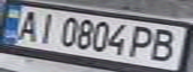0: (54, 15, 81, 48), (90, 19, 112, 53)
4: (106, 20, 133, 56)
8: (75, 17, 96, 51)
A: (9, 7, 45, 43)
B: (145, 26, 187, 63)
I: (30, 11, 60, 45)
P: (124, 24, 163, 60)
